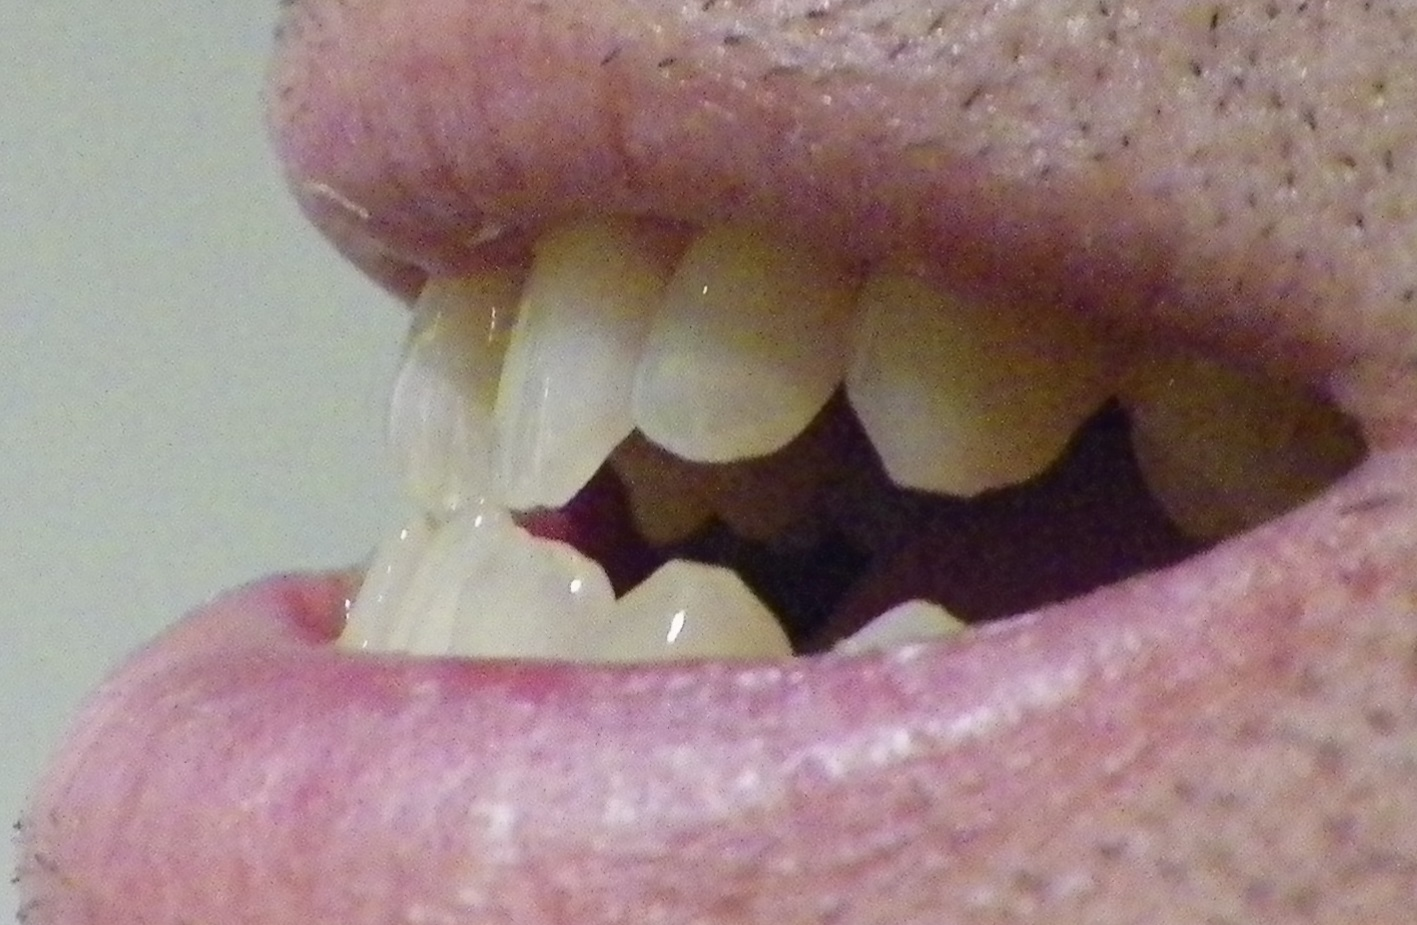boca: (346, 265, 1341, 658)
